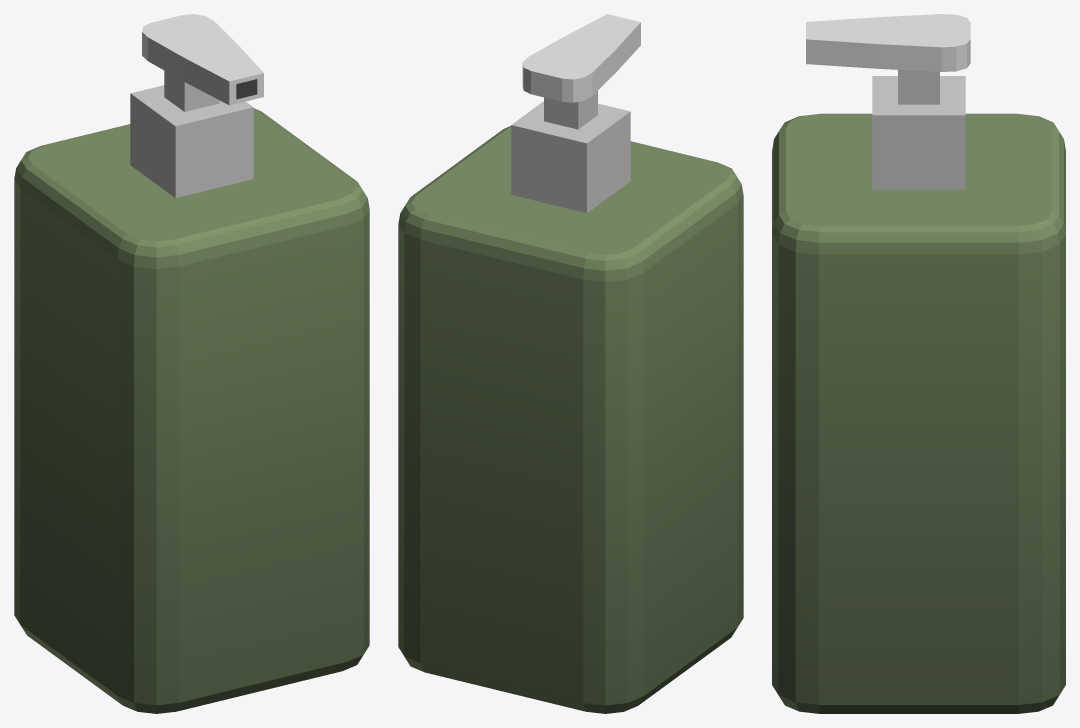
Rendered from BathroomProps_06.fbx.
3 views of the same model, side by side, from view 1: azimuth 30°, elevation 25°; view 2: azimuth 150°, elevation 25°; view 3: azimuth 270°, elevation 25° (orthographic). The views are drawn at different scales.
Parts seen in each view (by area): view 1: BathroomProps_06; view 2: BathroomProps_06; view 3: BathroomProps_06.
Boxes of the visible parts, x1=… form: BathroomProps_06: x1=14, y1=14, x2=369, y2=713; BathroomProps_06: x1=398, y1=14, x2=743, y2=713; BathroomProps_06: x1=772, y1=14, x2=1065, y2=713.
Size of the model in its own units: 7.04 by 16.51 by 7.04.
